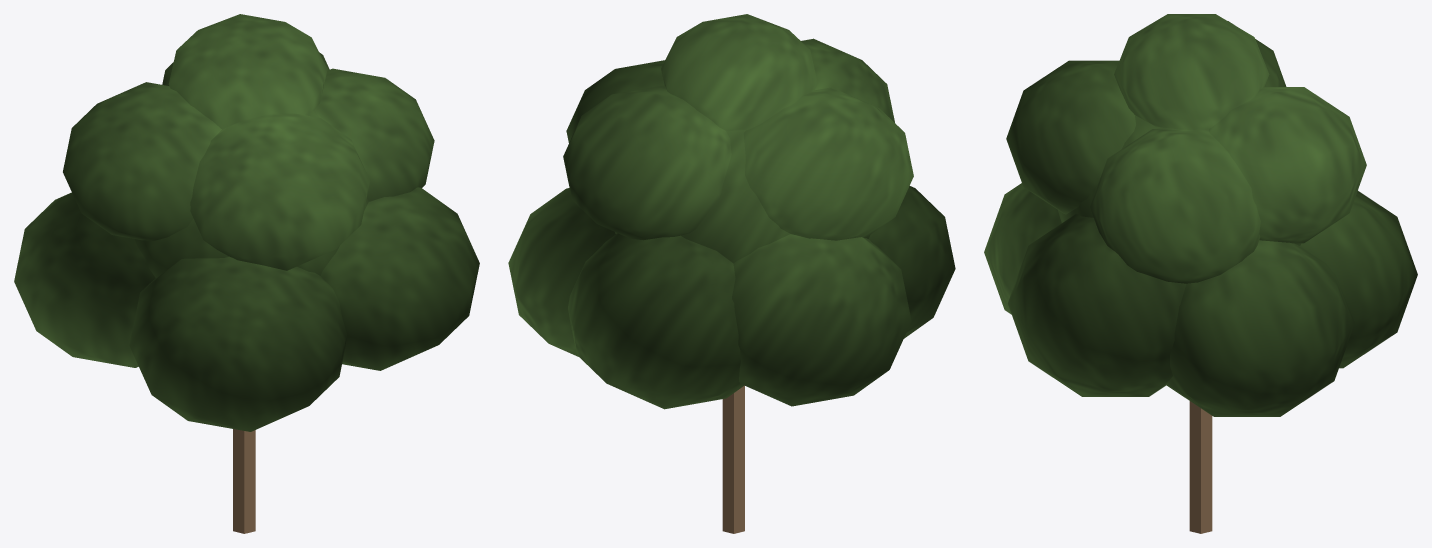
File: site_tree2.fbx
3 renders of one model, left to right at view 1: azimuth 30°, elevation 25°; view 2: azimuth 150°, elevation 25°; view 3: azimuth 270°, elevation 25°, orthographic.
Parts seen in each view (by area): view 1: a1019/0/site_tree2; view 2: a1019/0/site_tree2; view 3: a1019/0/site_tree2.
Part boxes in pixels (x1,y1,x2,y2): a1019/0/site_tree2: (14, 14, 479, 533); a1019/0/site_tree2: (508, 14, 955, 533); a1019/0/site_tree2: (984, 14, 1417, 533).
Size of the model in its own units: 5 by 6.45 by 5.
